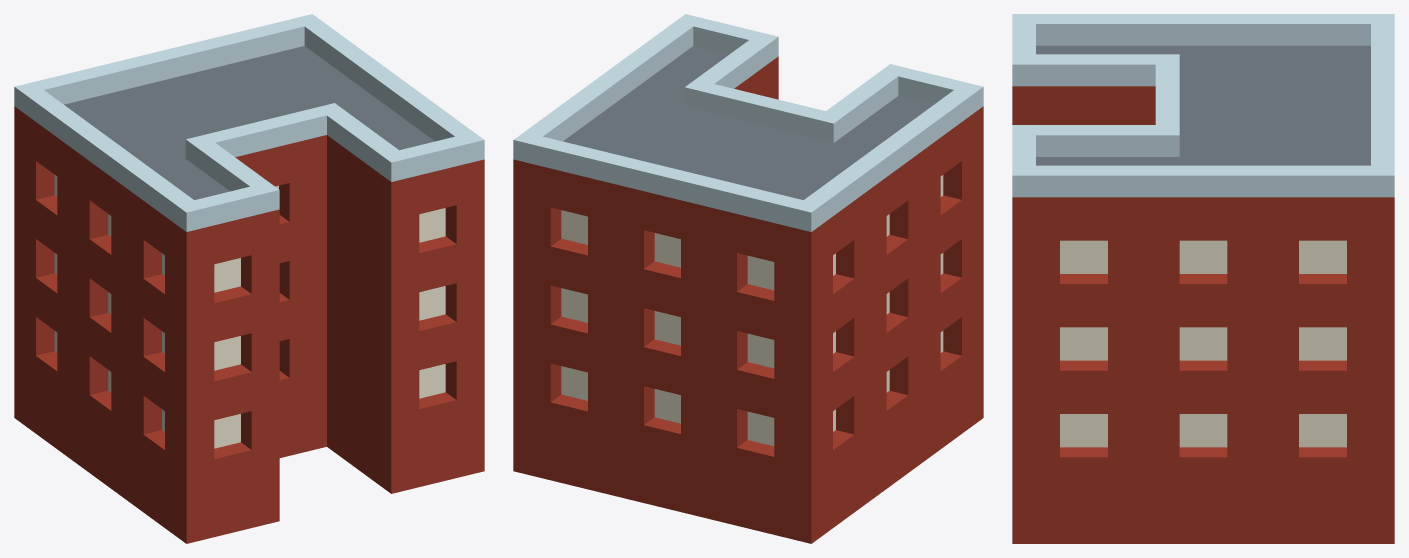
Rendered from Building_5  (Red).obj.
3 views of the same model, side by side, from view 1: azimuth 30°, elevation 25°; view 2: azimuth 150°, elevation 25°; view 3: azimuth 270°, elevation 25° (orthographic). The views are drawn at different scales.
Parts seen in each view (by area): view 1: Building_5__(Red); view 2: Building_5__(Red); view 3: Building_5__(Red).
Part boxes in pixels (box(x1,y1,x2,y2)): Building_5__(Red): box(14, 14, 484, 543); Building_5__(Red): box(513, 14, 983, 543); Building_5__(Red): box(1012, 14, 1394, 543).
Bounding box in the file's own units: 1.6 × 1.7 × 1.6.
